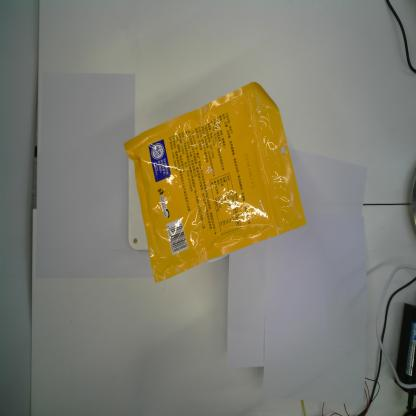Dried Fruit: (122, 80, 307, 284)
